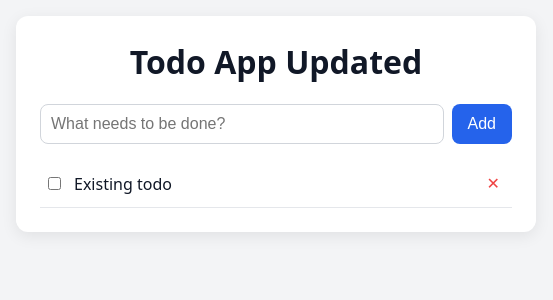
Test case: App › adds a todo
Expected: the text "Existing todo" is shown, [74,173,172,195]
In the field with placeholder "What needs to be done?": coordinates (242, 124) [40,104,444,144], type "Write tests"
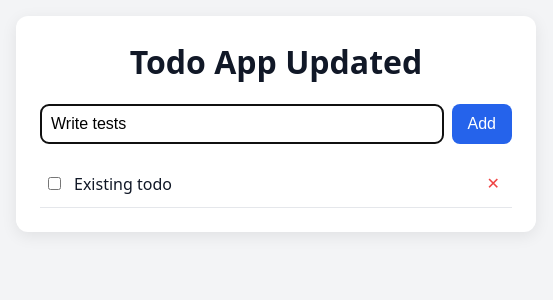
Click the button "Add": coordinates (482, 124) [452,104,512,144]
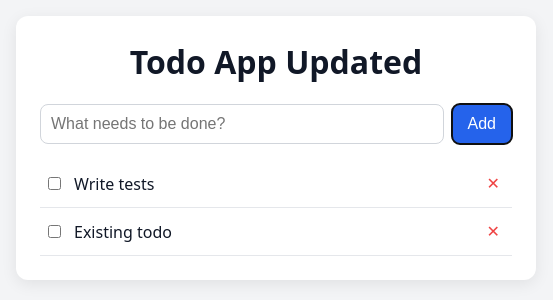
Result: the text "Write tests" is shown at [74,173,154,195]
Result: the field with placeholder "What needs to be done?" is empty at [40,104,444,144]
